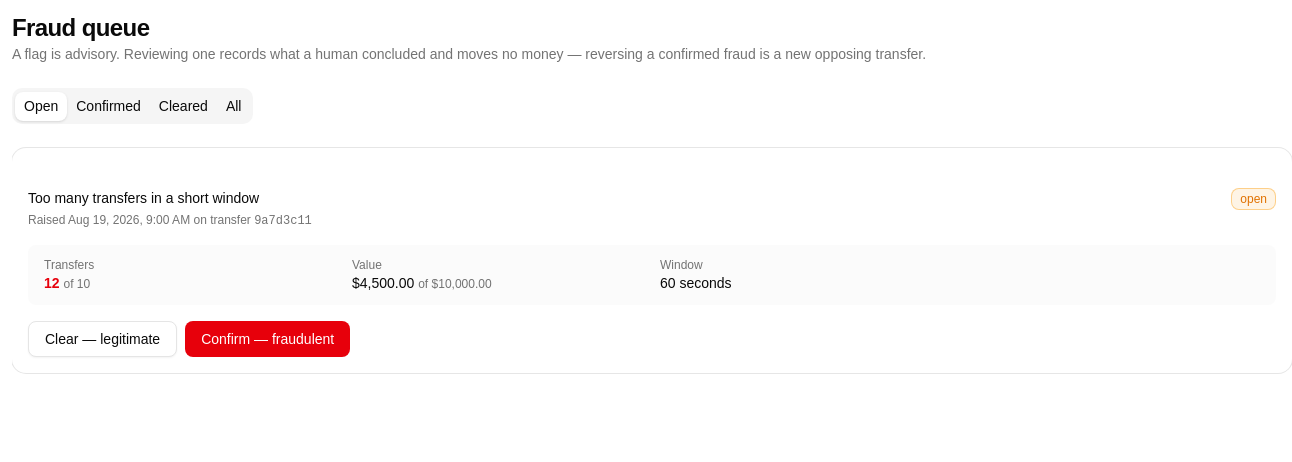
Test: two admins reviewing the same flag › explains the loss and replaces the row with the decision that won
expect the element with test id "flag-card" is shown: met, box [12,148,1291,373]
Click the button "Clear — legitimate": (103, 339) [28,321,177,357]
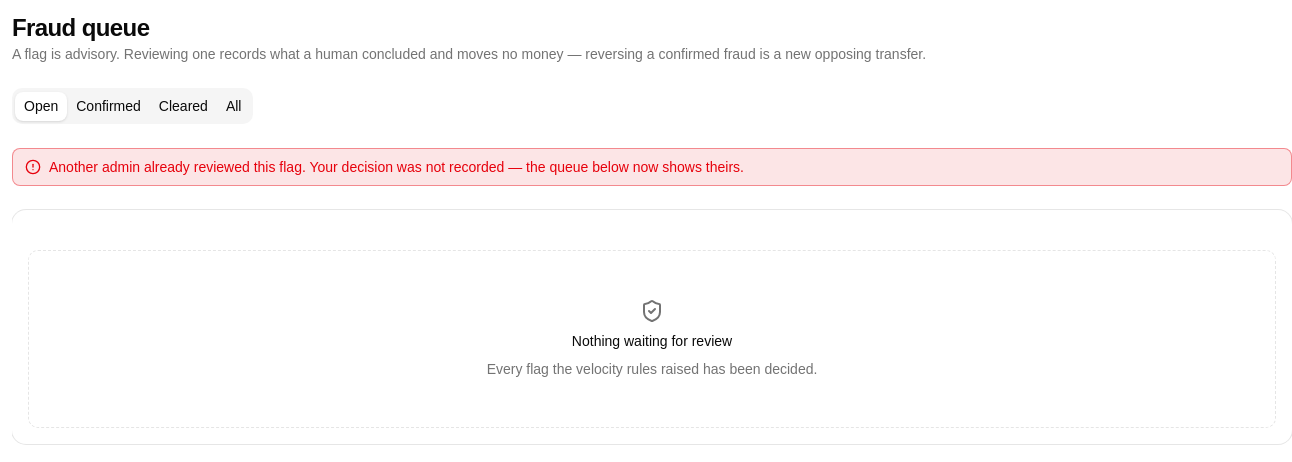
expect the message shows "Another admin already reviewed this flag": met, box [49,159,744,175]
expect the message shows "was not recorded": met, box [49,159,744,175]
expect the element with test id "flag-card" is gone: met
